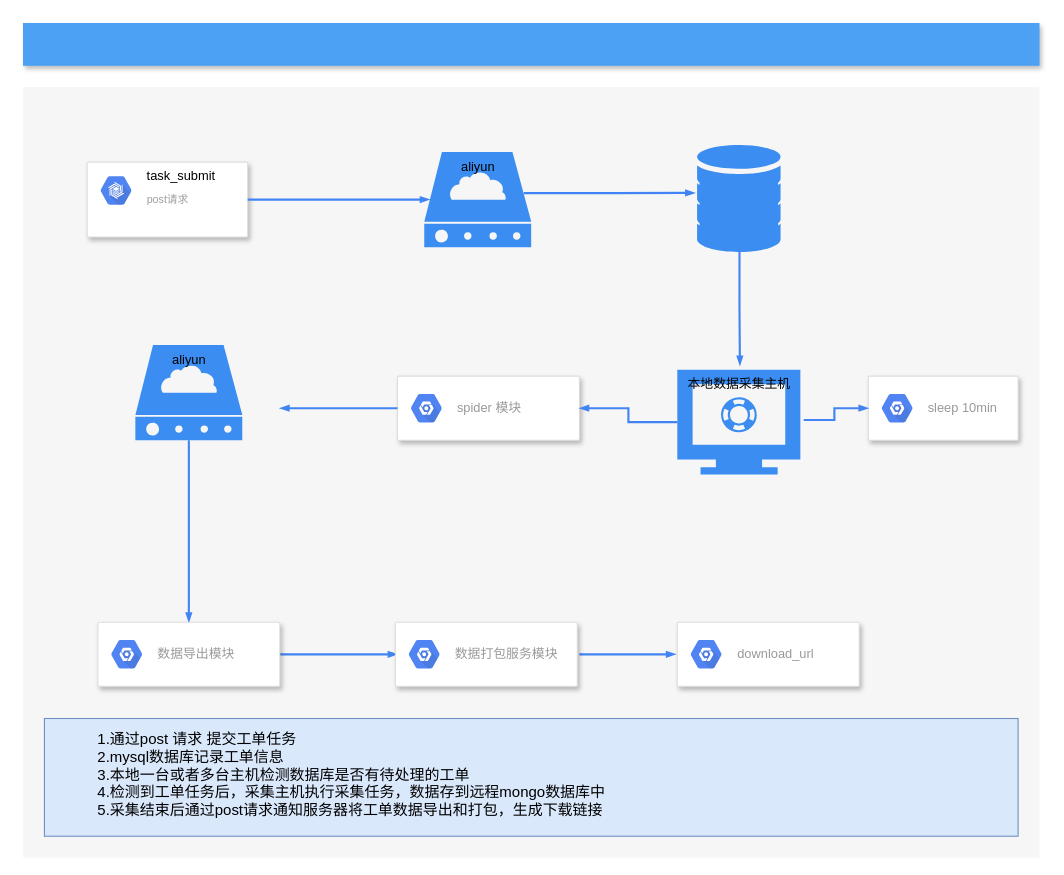
The diagram is 1064 pixels wide and 875 high, and some of its shapes have lost their labels. The shapes that lost their labels are listed below. From the top down, each one's centre as x and y in pixels, then its label:
At point (531, 45): "dts-auto-brief".
At point (738, 197): "mysql".
